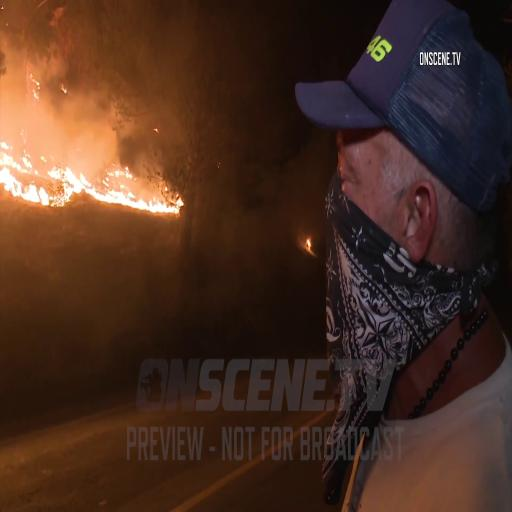fire: (0, 141, 135, 214)
